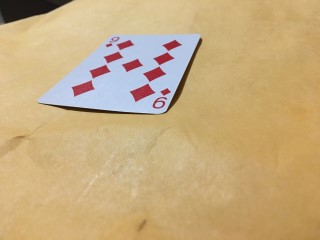NineOfDiamonds: (37, 34, 202, 114)
